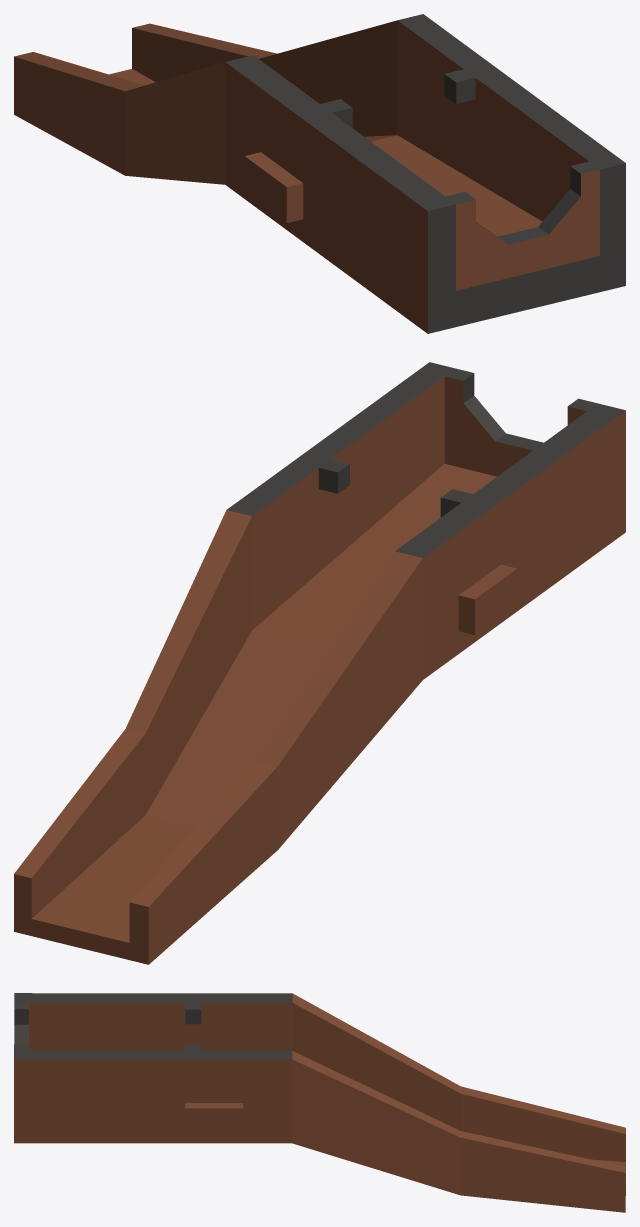
The model's file is gun-carriage.fbx.
3 renders of one model, top to bottom at view 1: azimuth 30°, elevation 25°; view 2: azimuth 150°, elevation 25°; view 3: azimuth 270°, elevation 25°, orthographic. The views are drawn at different scales.
Visible parts, largest first — view 1: gun-carriage; view 2: gun-carriage; view 3: gun-carriage.
Boxes of the visible parts, x1,y1,x2,y2 form: gun-carriage: (14, 14, 625, 333); gun-carriage: (14, 362, 625, 964); gun-carriage: (14, 993, 625, 1212).
Bounding box in the file's own units: 101 × 100 × 341.
